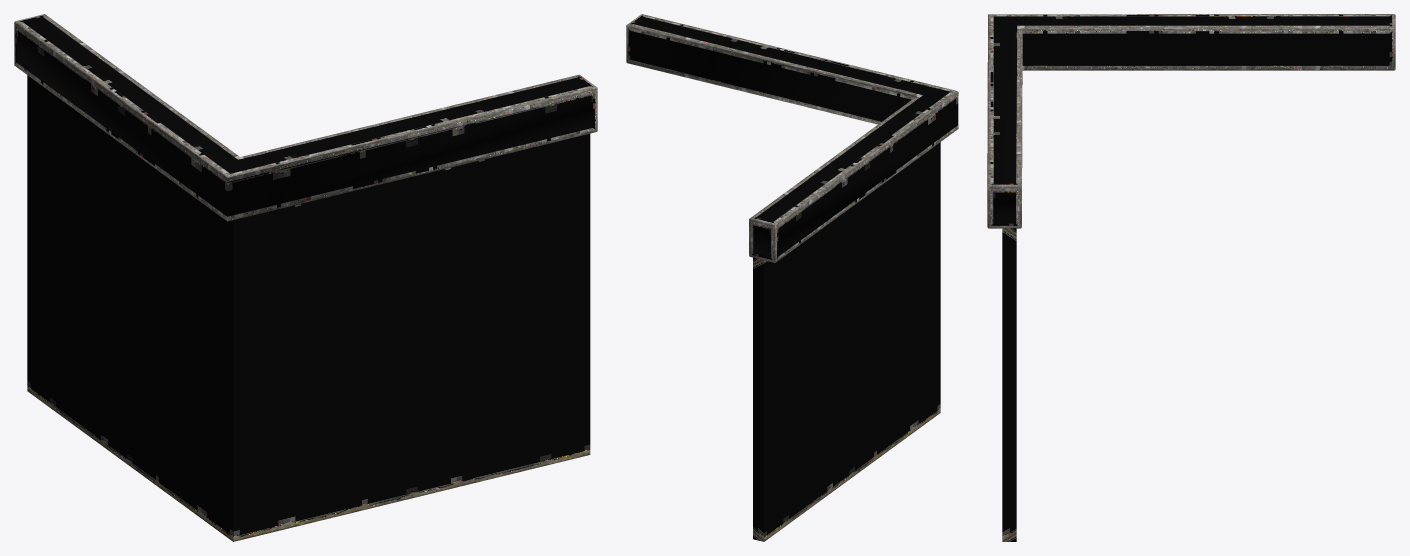
Rendered from sewer_wall_cornerout_600x600.glb.
3 renders of one model, left to right at view 1: azimuth 30°, elevation 25°; view 2: azimuth 150°, elevation 25°; view 3: azimuth 270°, elevation 25°, orthographic. The views are drawn at different scales.
Visible parts, largest first — view 1: sewer_wall_cornerout_600x600_LOD0; view 2: sewer_wall_cornerout_600x600_LOD0; view 3: sewer_wall_cornerout_600x600_LOD0.
Boxes of the visible parts, bbox=[...] form: sewer_wall_cornerout_600x600_LOD0: bbox=[14, 14, 597, 541]; sewer_wall_cornerout_600x600_LOD0: bbox=[626, 14, 958, 541]; sewer_wall_cornerout_600x600_LOD0: bbox=[987, 14, 1395, 541].
Bounding box in the file's own units: 6.49 × 6.25 × 6.49.
Materials: 2 (2 with a texture image).
